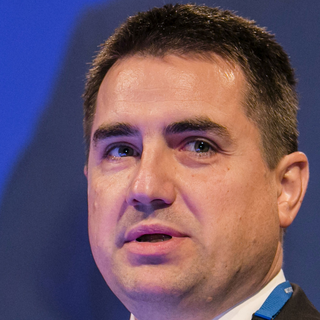eye: (174, 133, 225, 161), (97, 141, 142, 164)
